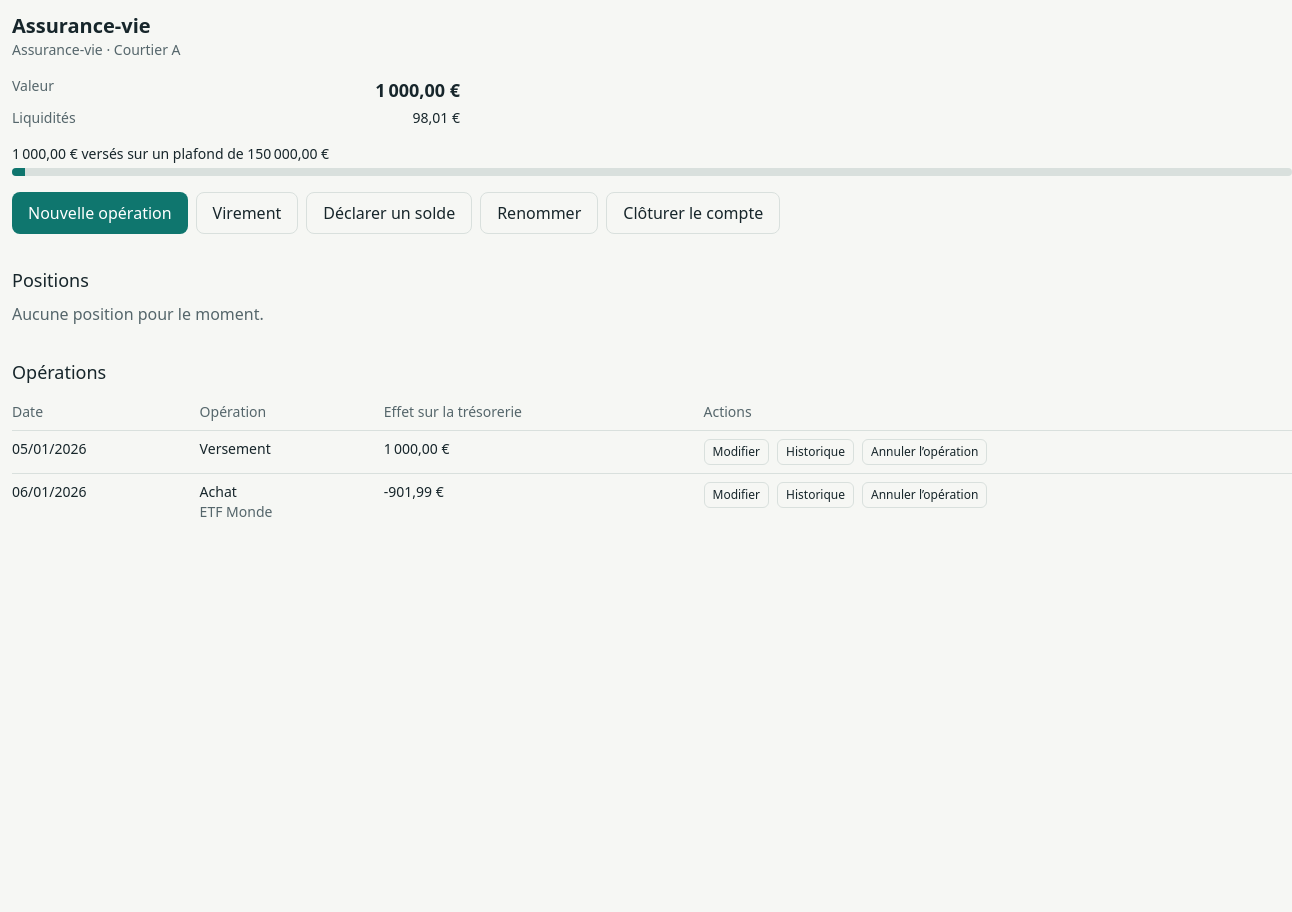
Test: solde déclaré › refuse un solde négatif
Expected: the table named "Opérations" is shown, [12, 394, 1291, 530]
Click the button "Déclarer un solde".
click(389, 213)  # box [306, 192, 472, 234]
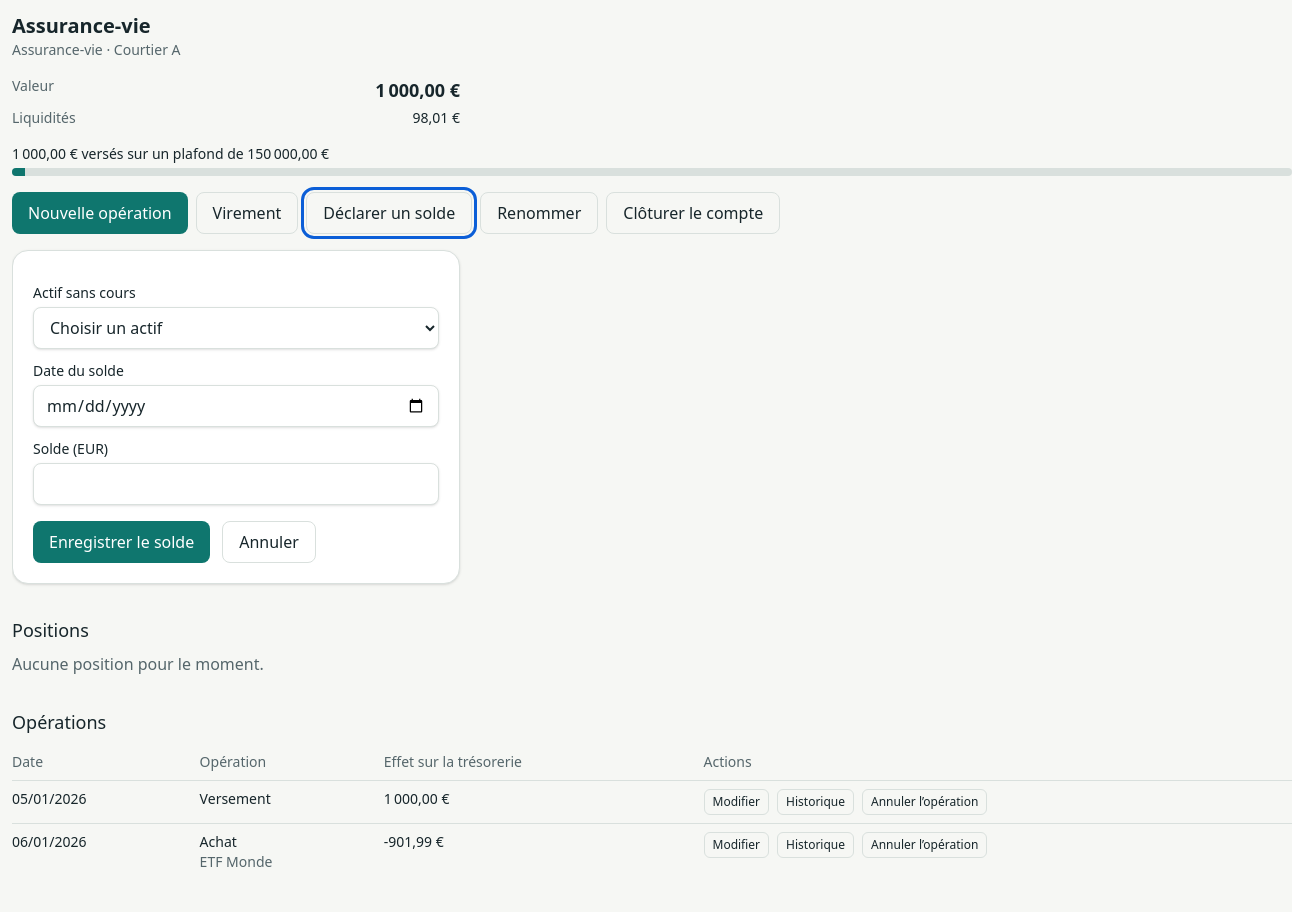
Select "Fonds en euros" in the dropdown labelled "Actif sans cours" at (236, 328), box [33, 307, 439, 349]
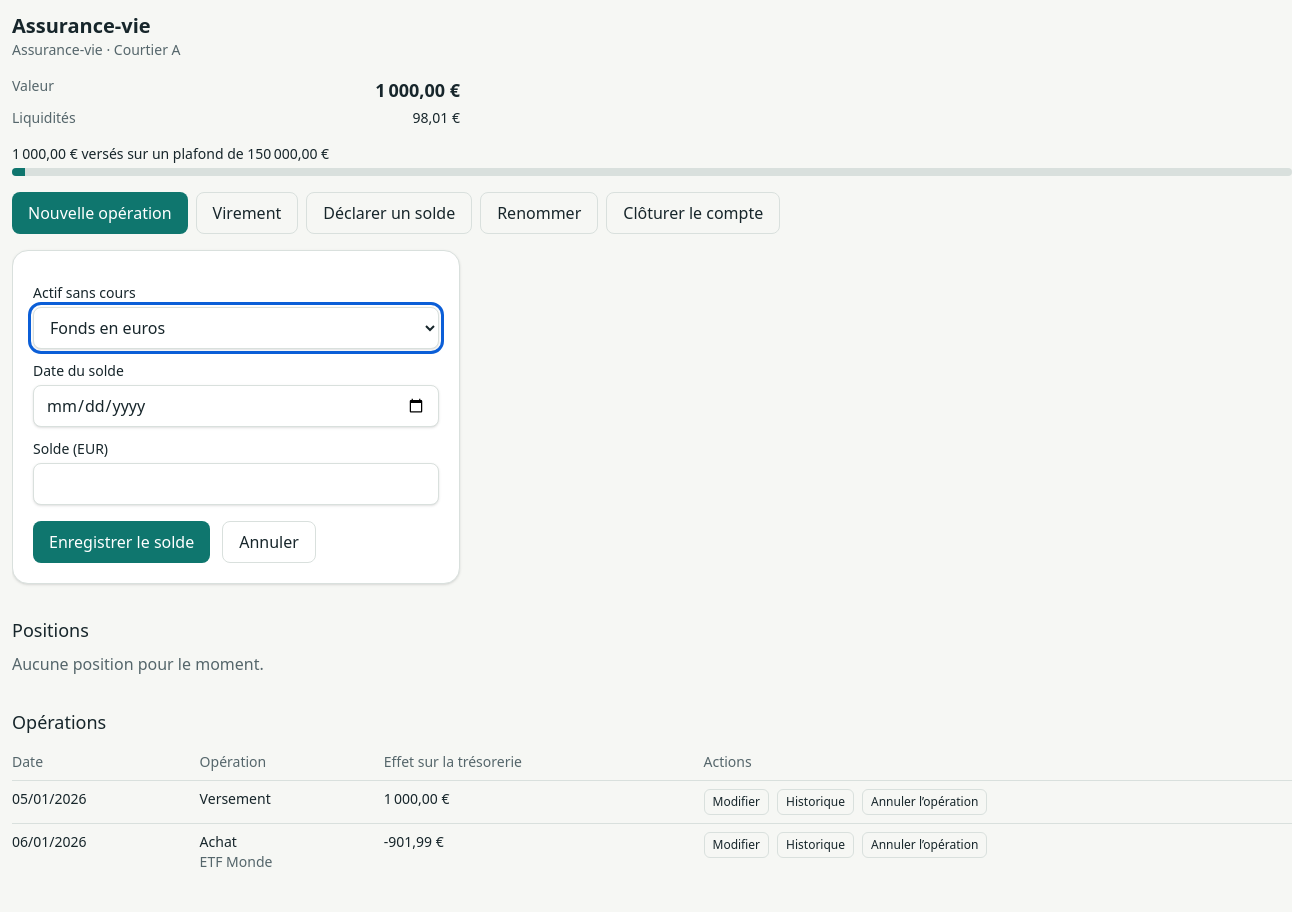
Type "2026-01-01" into the date field labelled "Date du solde".
click(236, 406); type("2026-01-01")  # box [33, 385, 439, 427]
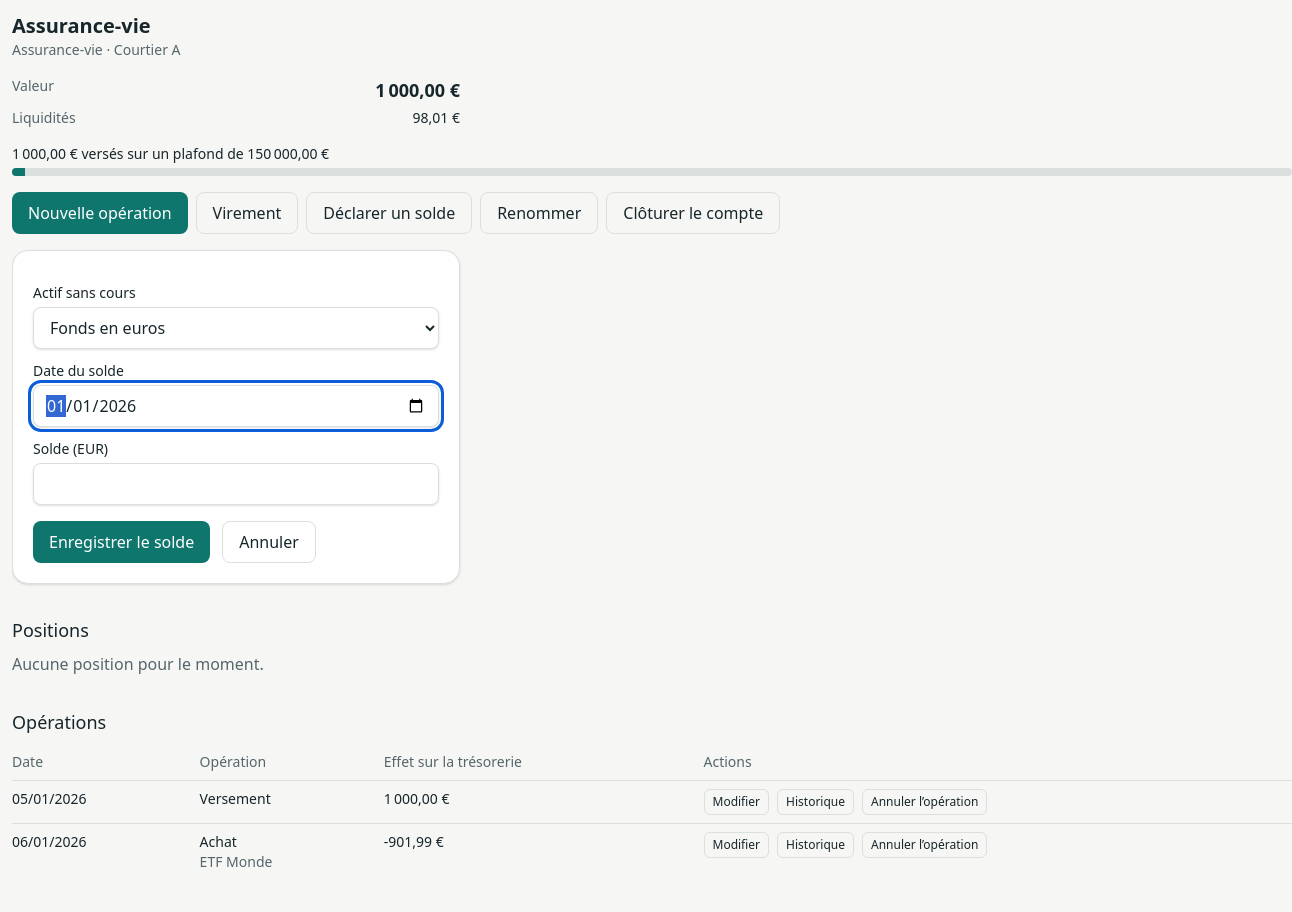
Type "-5" into the field labelled "Solde (EUR)".
click(236, 484); type("-5")  # box [33, 463, 439, 505]
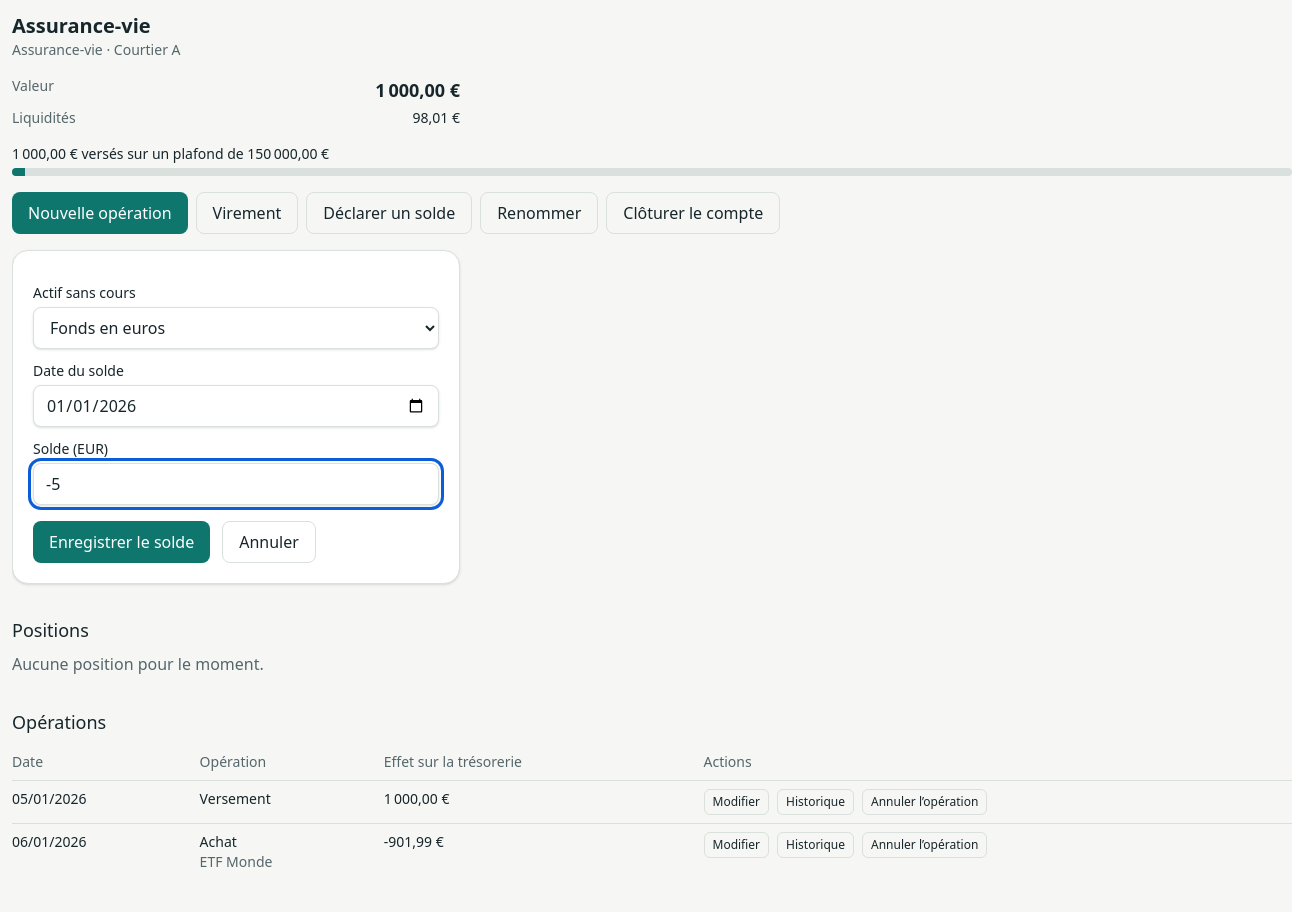
Click the button "Enregistrer le solde".
click(122, 542)  # box [33, 521, 210, 563]
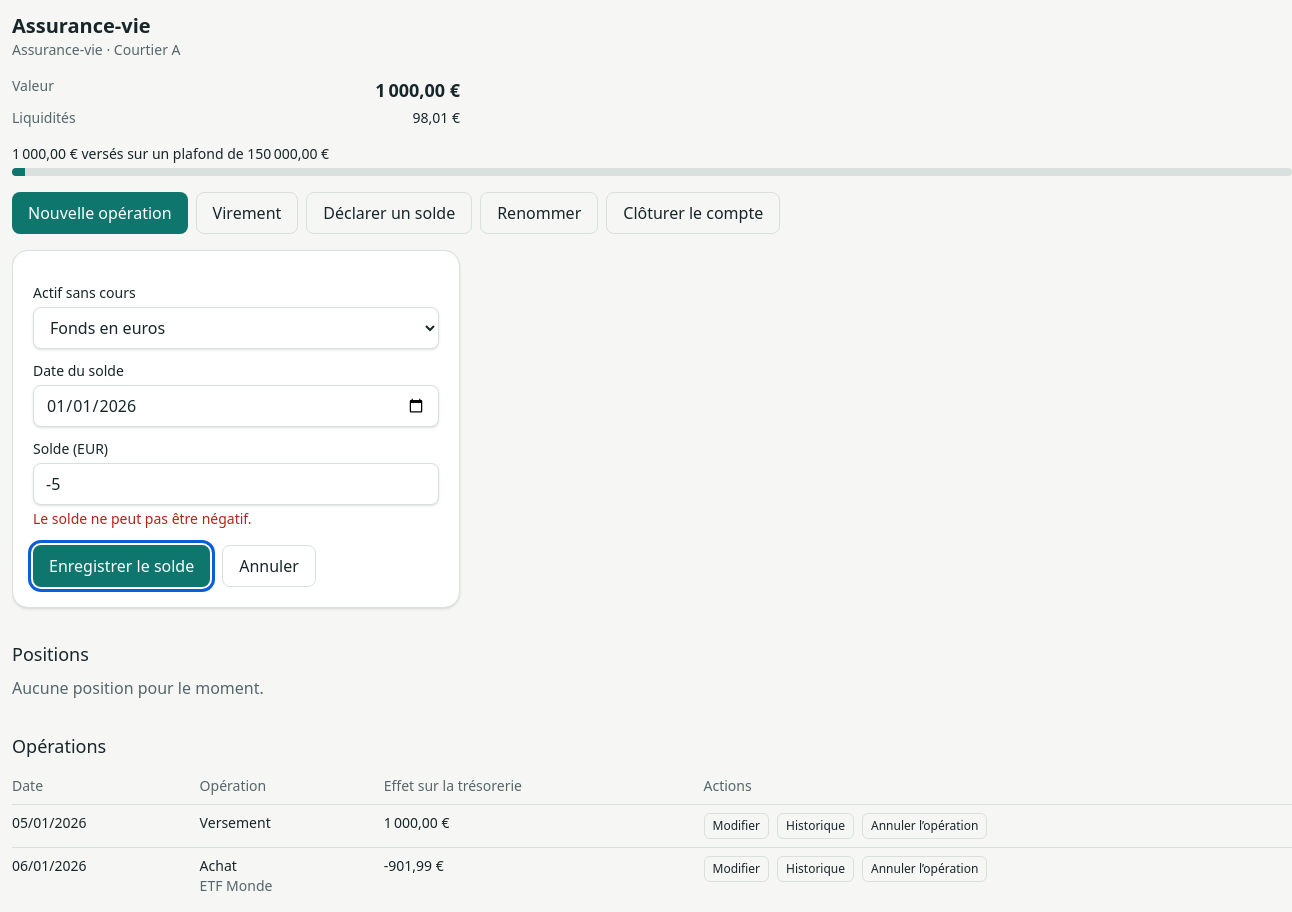
Expected: the text "Le solde ne peut pas être négatif." is shown, [33, 509, 252, 528]
